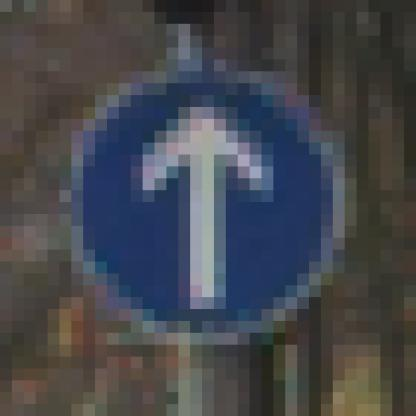AheadOnly: (61, 61, 358, 358)
